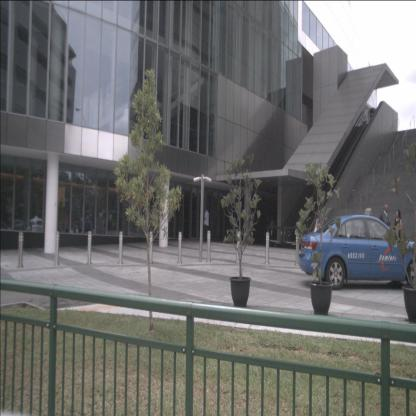human-pedestrian-adult: (380, 204, 390, 256), (393, 209, 402, 256), (202, 206, 210, 243), (314, 213, 321, 248)
vehicle-car: (298, 215, 416, 291), (27, 218, 49, 238), (8, 219, 28, 235), (78, 214, 92, 233)
